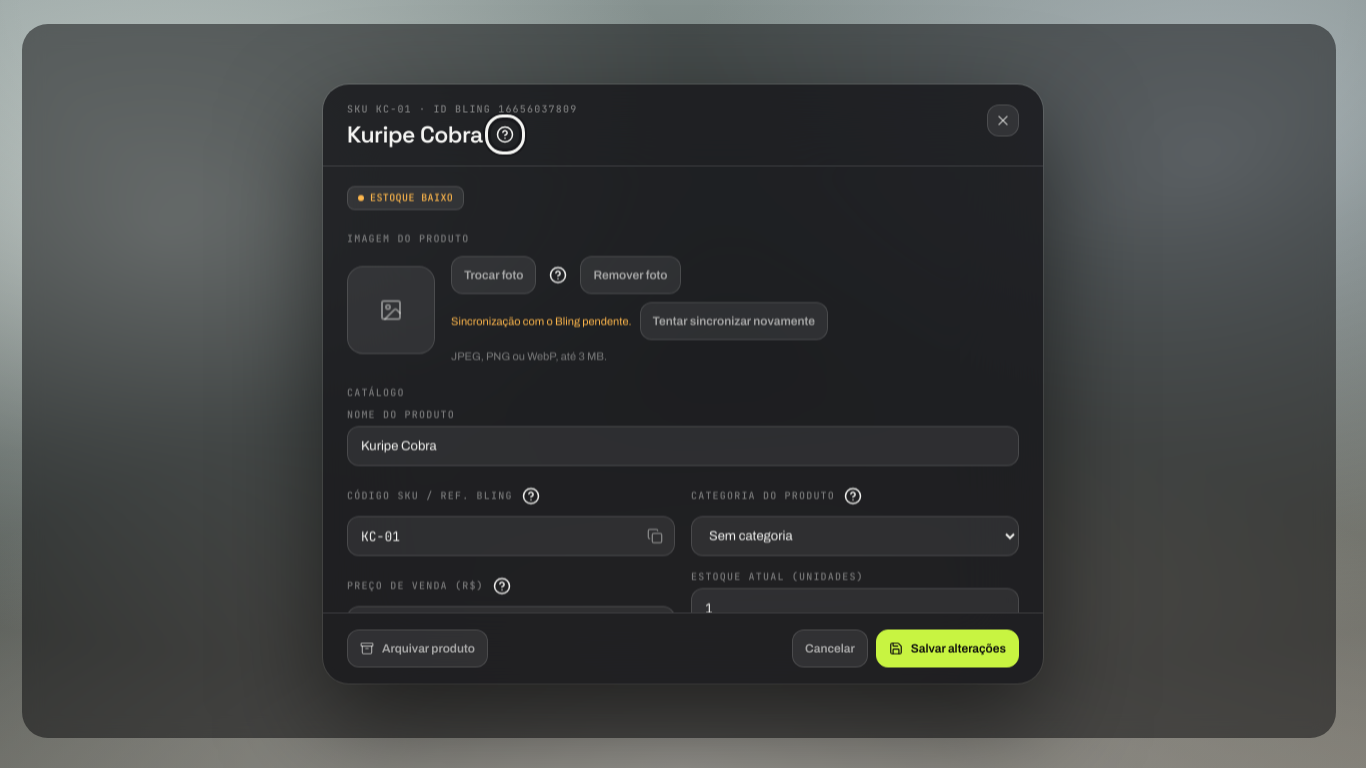
ProductDetailModal — o botão de arquivar › "Voltar" retorna ao formulário sem requisição nenhuma
Click the button "Arquivar produto": point(417, 648) x1=347 y1=630 x2=488 y2=668
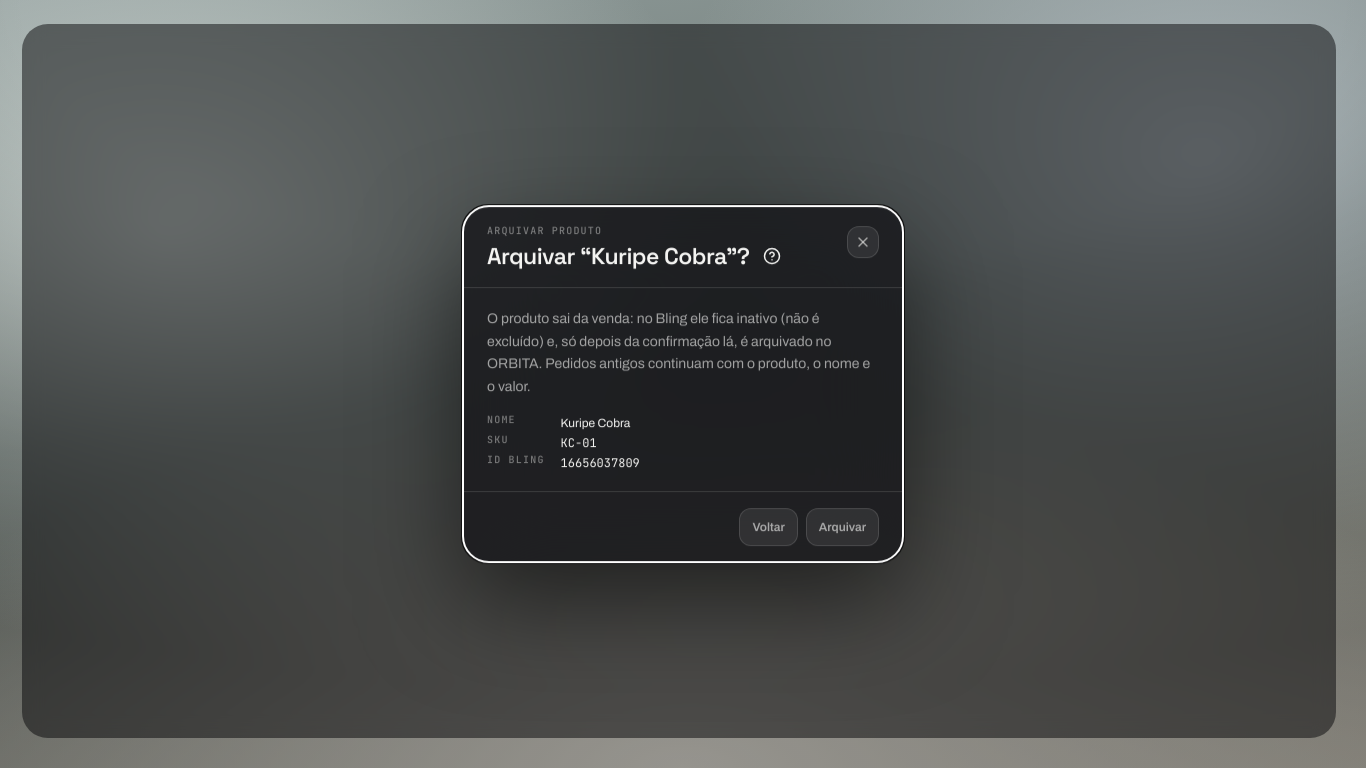
Click the button "Voltar": point(769, 527) x1=739 y1=508 x2=798 y2=546
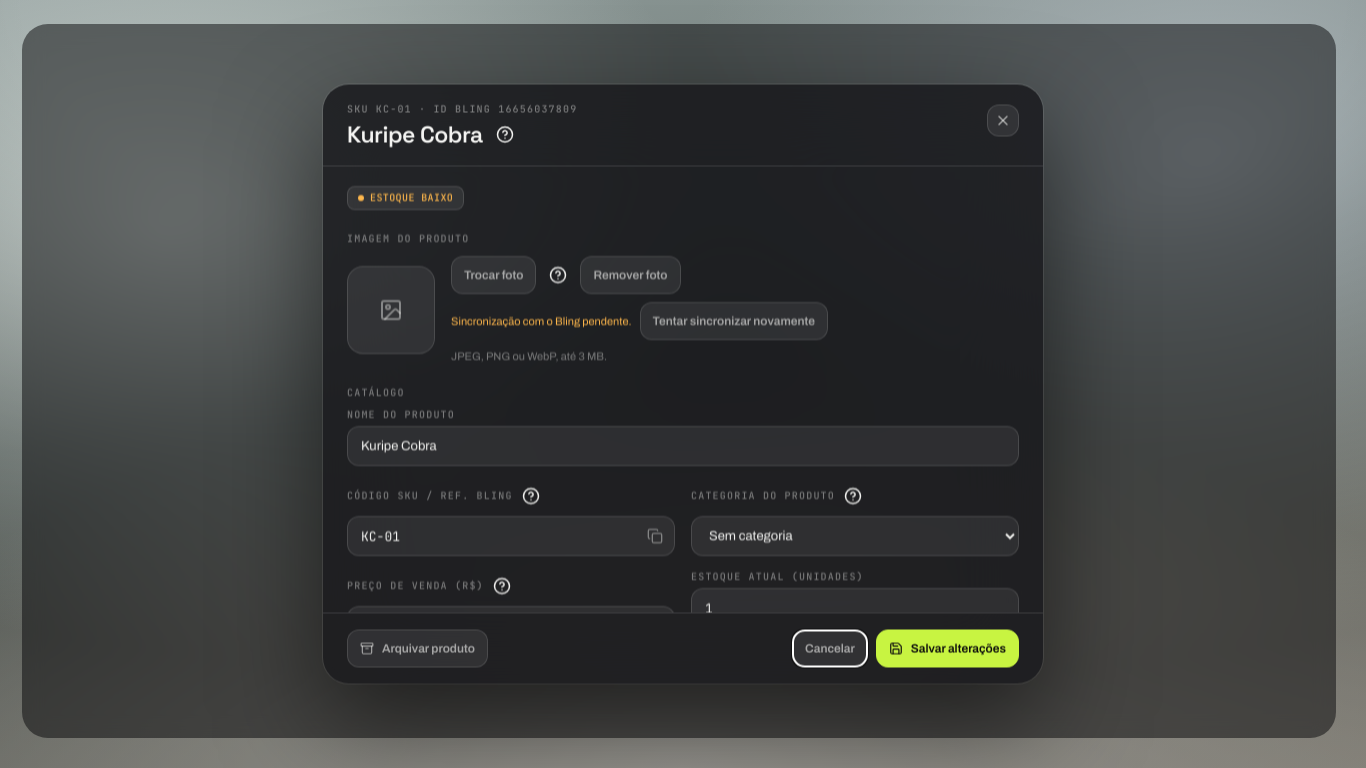
Expected: the button "Arquivar produto" is shown, x1=347 y1=630 x2=488 y2=668
Now the button "Salvar alterações" is shown, box x1=876 y1=630 x2=1019 y2=668
